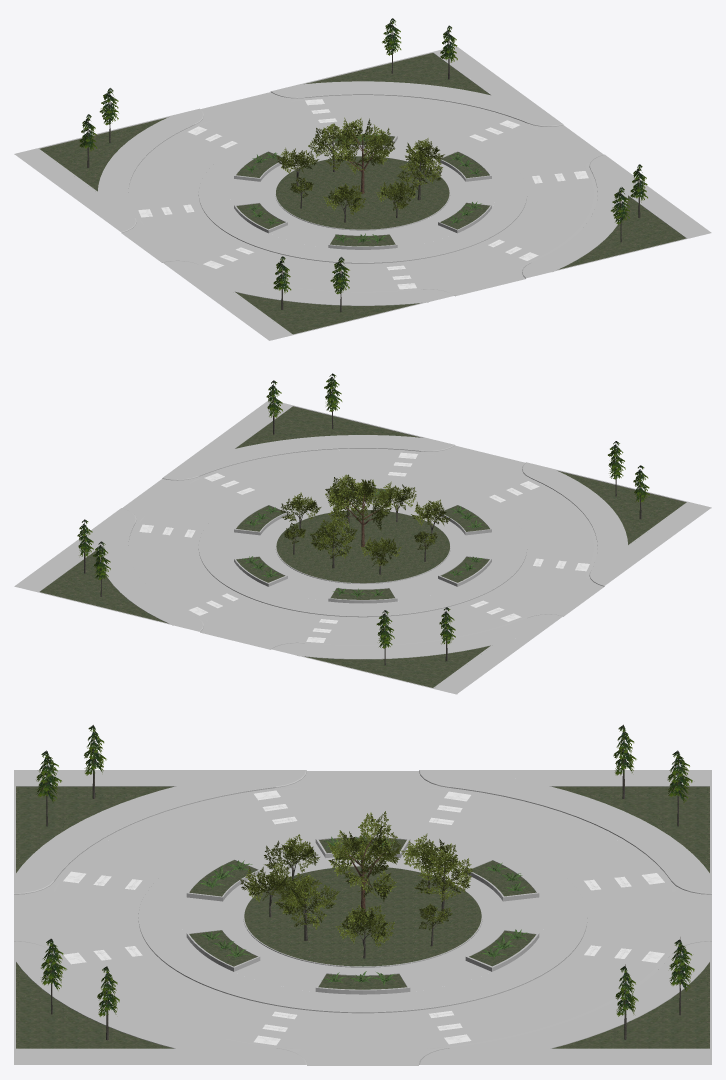
File: Street-Roundabout.fbx
3 renders of one model, top to bottom at view 1: azimuth 30°, elevation 25°; view 2: azimuth 150°, elevation 25°; view 3: azimuth 270°, elevation 25°, orthographic. The views are drawn at different scales.
Parts seen in each view (by area): view 1: Double-Block-04-B, Double-Block-04-Sidewalk-B, Trees, Road-Mark-B, Road-Mark-Rev-B; view 2: Double-Block-04-B, Double-Block-04-Sidewalk-B, Trees, Road-Mark-B, Road-Mark-Rev-B; view 3: Double-Block-04-B, Double-Block-04-Sidewalk-B, Trees, Road-Mark-B, Road-Mark-Rev-B.
Part boxes in pixels (x1=…): Double-Block-04-B: x1=14, y1=46, x2=711, y2=340; Double-Block-04-Sidewalk-B: x1=97, y1=81, x2=628, y2=305; Trees: x1=79, y1=18, x2=647, y2=312; Road-Mark-B: x1=138, y1=99, x2=588, y2=289; Road-Mark-Rev-B: x1=188, y1=120, x2=538, y2=268; Double-Block-04-B: x1=14, y1=400, x2=711, y2=694; Double-Block-04-Sidewalk-B: x1=97, y1=435, x2=628, y2=659; Trees: x1=77, y1=373, x2=649, y2=665; Road-Mark-B: x1=189, y1=473, x2=539, y2=621; Road-Mark-Rev-B: x1=139, y1=452, x2=589, y2=642; Double-Block-04-B: x1=14, y1=770, x2=711, y2=1065; Double-Block-04-Sidewalk-B: x1=14, y1=770, x2=711, y2=1064; Trees: x1=36, y1=724, x2=694, y2=1040; Road-Mark-B: x1=63, y1=791, x2=664, y2=1045; Road-Mark-Rev-B: x1=63, y1=790, x2=664, y2=1044.
Size of what is drawn, in the model's own units: 100 by 16.1 by 100.
